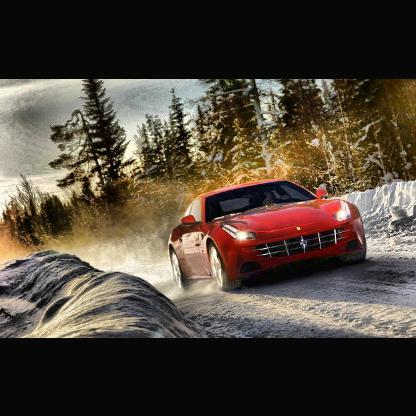Ferrari FF Coupe 2012: (166, 177, 370, 294)
